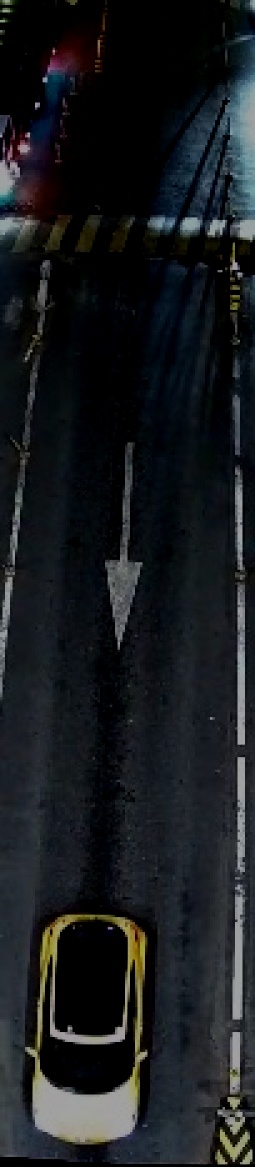car: (13, 904, 160, 1151)
